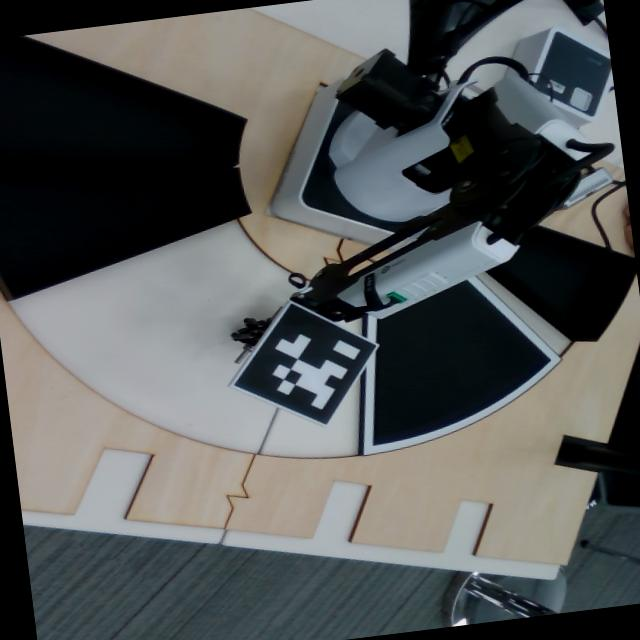board: (338, 269, 577, 462)
box: (0, 86, 261, 305), (0, 37, 253, 222), (453, 185, 635, 344)
